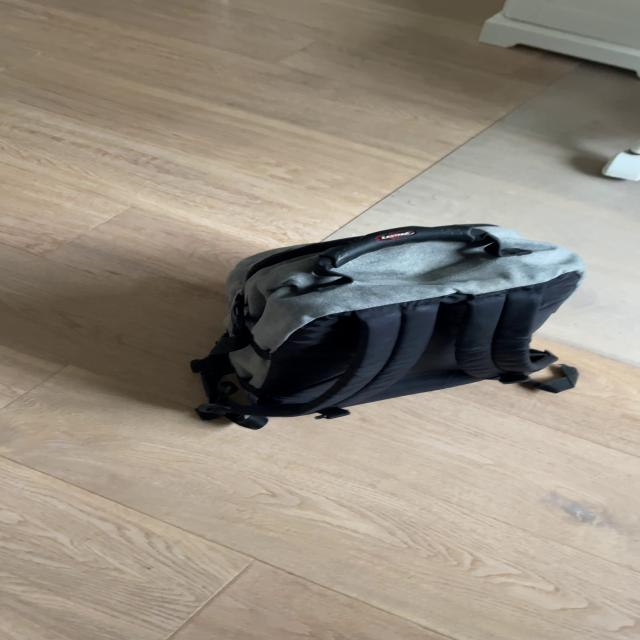backpack: (177, 212, 600, 426)
